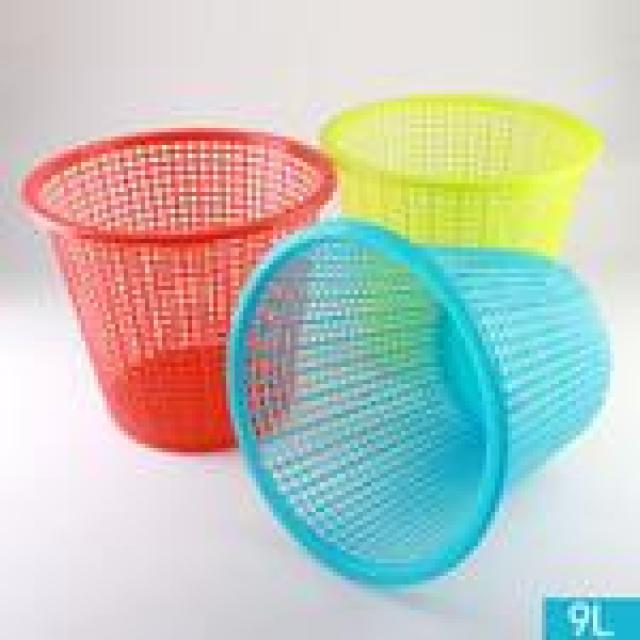dustbin: (215, 215, 618, 589), (19, 120, 340, 460), (324, 88, 609, 372)
